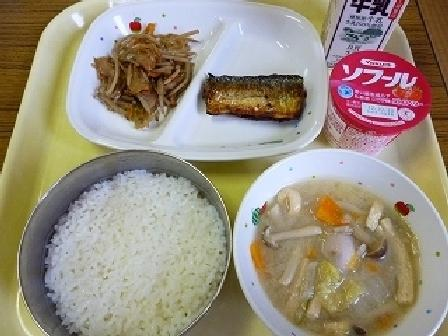Fish: (194, 62, 317, 141)
Milk: (307, 0, 417, 68)
Rice: (24, 155, 227, 335)
salad with sauce: (95, 22, 197, 128)
vegetable soup: (244, 160, 433, 334)
